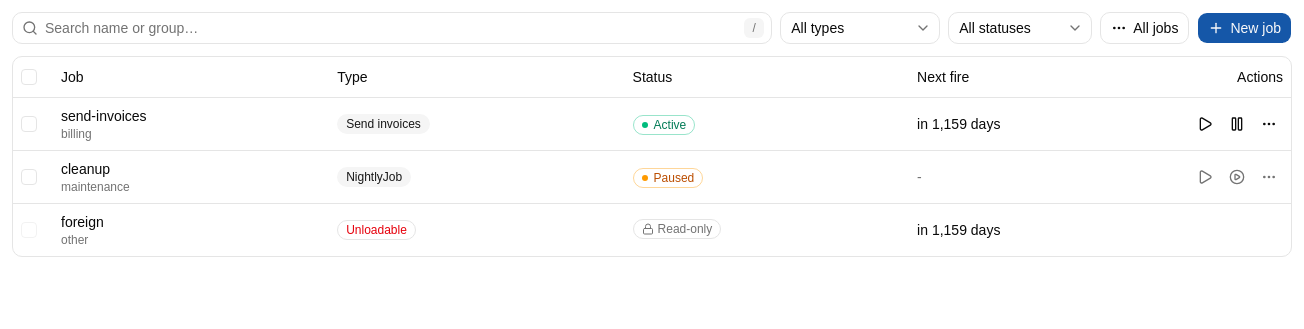
Test: JobsTable › offers to pause a group only when it has a job running, and to resume it only when it has one paused
The image size is (1304, 329).
// billing: its only job is active
Click the button named "More actions for send-invoices" at (1269, 124), box [1255,110,1283,138]
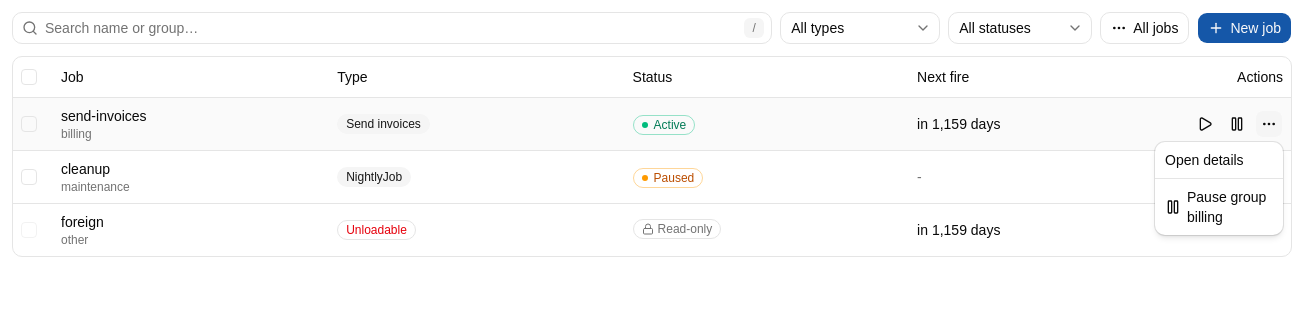
Expected: the menu item "Pause group billing" is shown, [1165,189,1266,225]
Press Escape
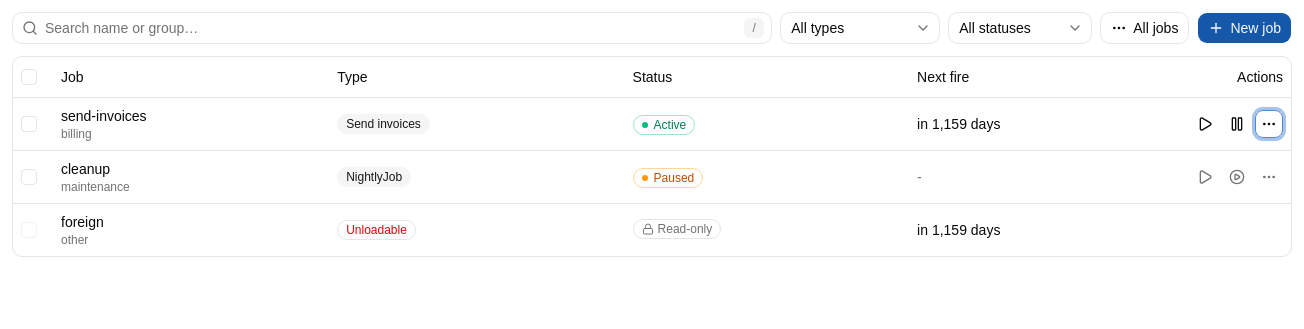
// maintenance: its only job is paused
Click the button named "More actions for cleanup" at (1269, 176), box [1255,162,1283,190]
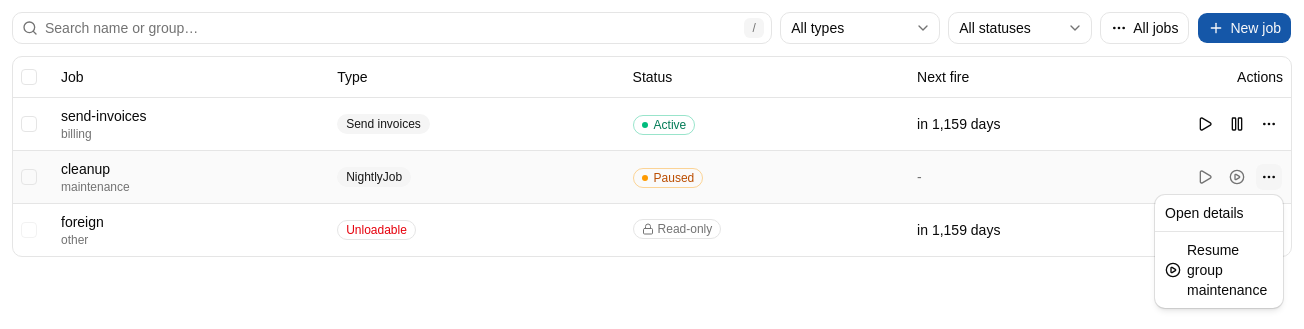
Expected: the menu item "Resume group maintenance" is shown, [1159,236,1279,304]
